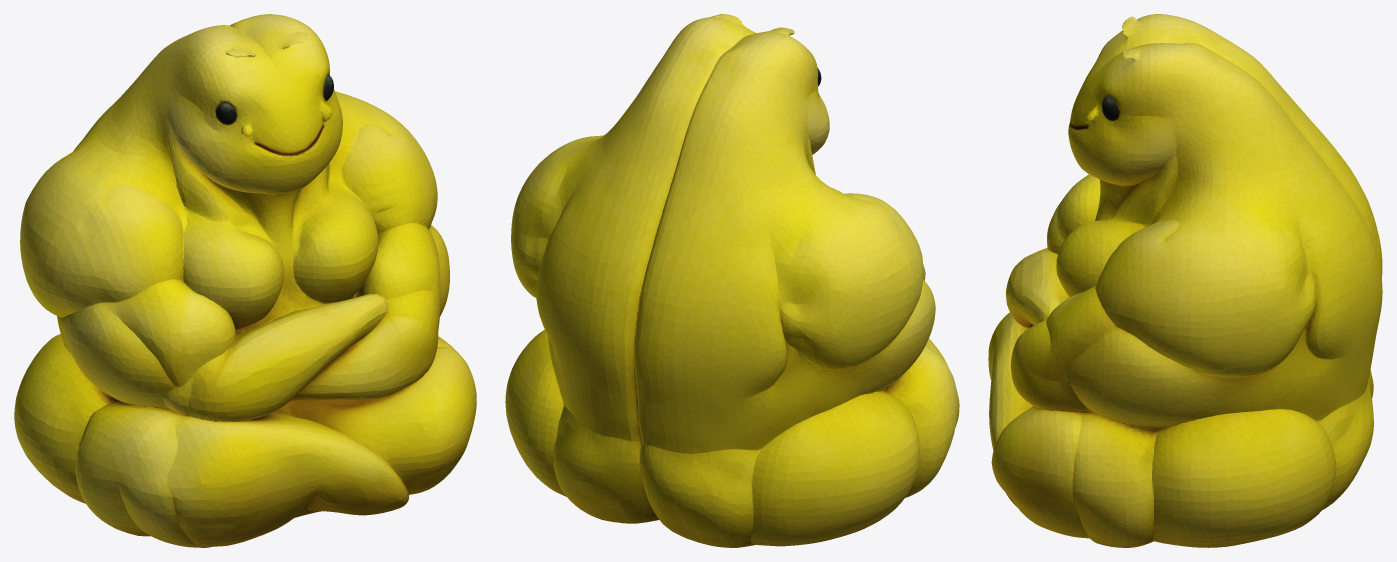
File: sigma-frog.glb
3 views of the same model, side by side, from view 1: azimuth 30°, elevation 25°; view 2: azimuth 150°, elevation 25°; view 3: azimuth 270°, elevation 25° (orthographic).
Visible parts, largest first — view 1: geometry_0; view 2: geometry_0; view 3: geometry_0.
Part boxes in pixels (x1,y1,x2,y2): geometry_0: (14, 14, 476, 547); geometry_0: (505, 14, 959, 547); geometry_0: (988, 14, 1382, 547).
Bounding box in the file's own units: 0.0702 × 0.078 × 0.0619.
1 material, 1 textured.
